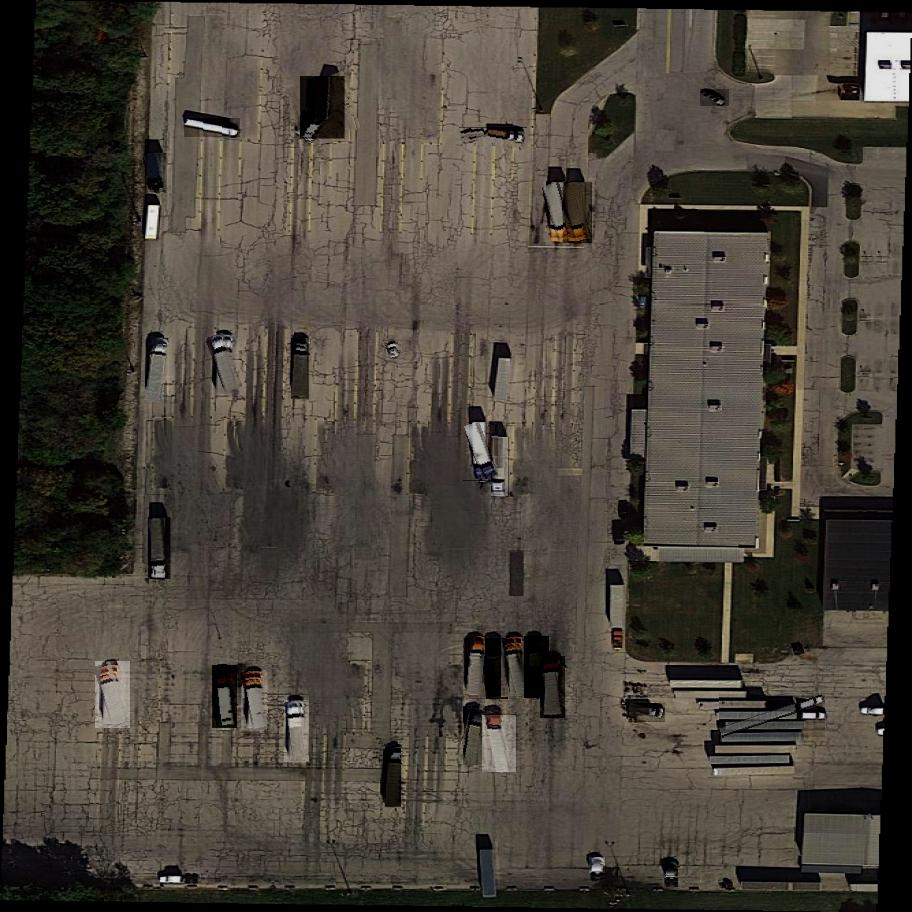large-vehicle: (720, 695, 826, 739), (301, 70, 345, 145), (96, 662, 133, 728), (205, 334, 243, 395), (483, 712, 517, 776), (463, 423, 499, 483), (542, 181, 576, 243), (501, 637, 531, 700), (564, 182, 593, 244), (241, 670, 268, 732), (212, 665, 238, 729), (283, 699, 309, 762), (524, 637, 550, 700), (145, 335, 170, 400), (541, 656, 566, 719), (464, 636, 489, 698), (463, 706, 489, 765), (149, 517, 173, 579), (487, 638, 509, 700), (458, 128, 528, 147), (292, 338, 311, 399), (185, 118, 240, 139), (492, 437, 509, 496), (385, 747, 401, 807), (146, 153, 168, 192)
small-vehicle: (628, 704, 666, 722), (701, 87, 730, 109), (386, 342, 403, 361), (589, 857, 605, 873), (665, 862, 678, 876)
